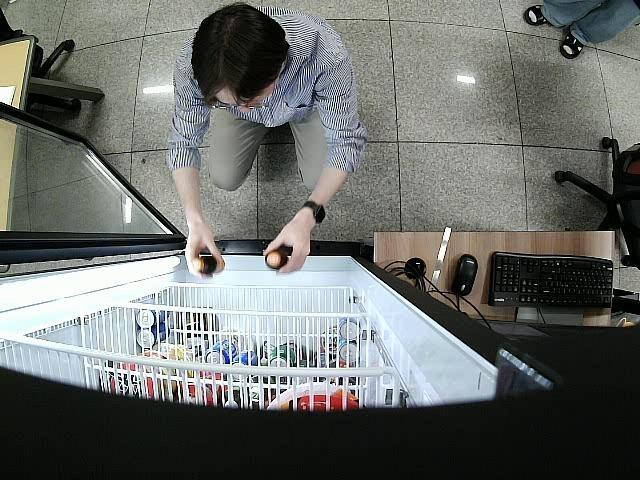17_vita500: (192, 255, 225, 275), (264, 248, 290, 270)
